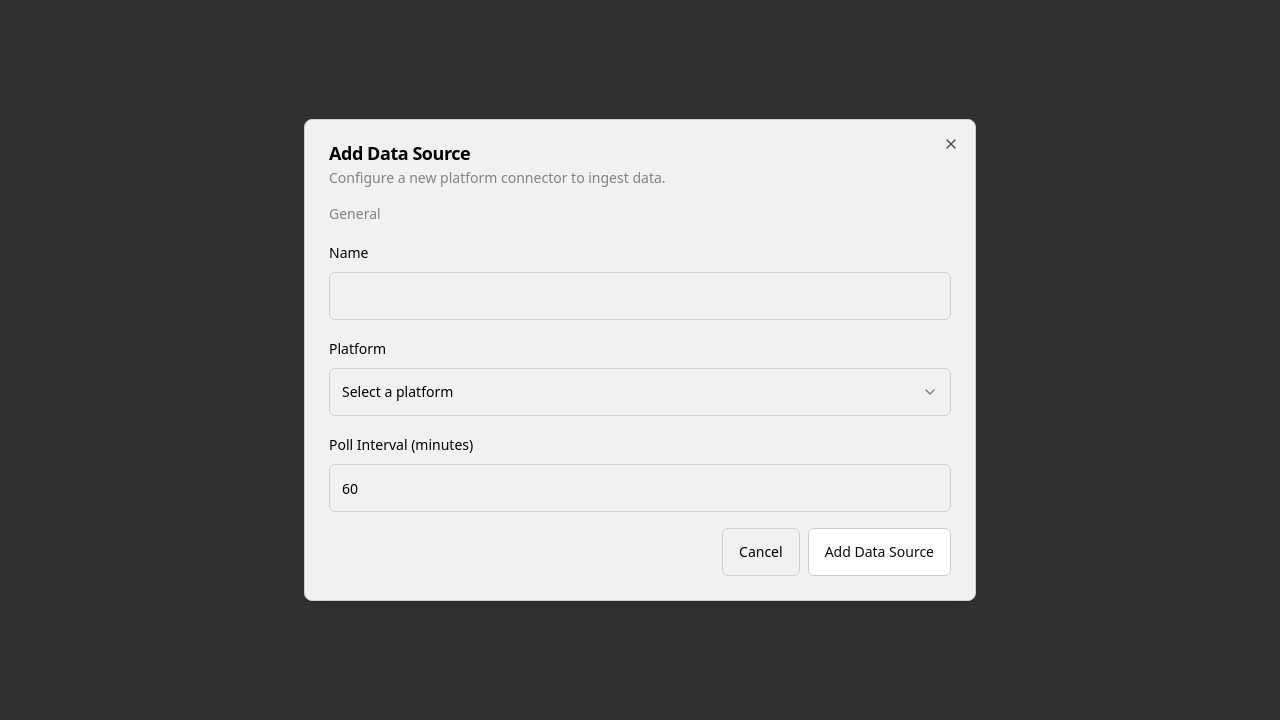
Test case: DataSourceDialog — File Upload platform › shows file input area when file_upload platform is selected
Step 1. Click the dropdown → click(398, 392), box top-left (329, 368), bottom-right (951, 416)
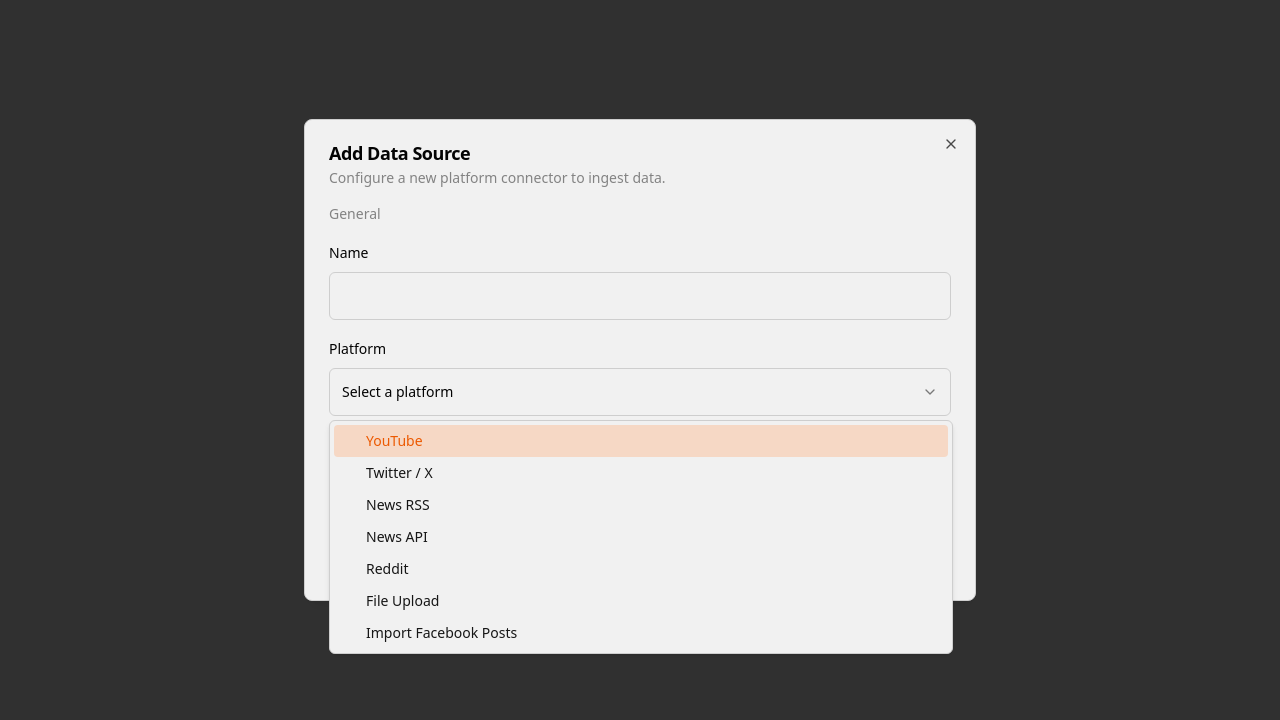
Step 2. Click the option "File Upload" → click(403, 600), box top-left (366, 591), bottom-right (439, 610)
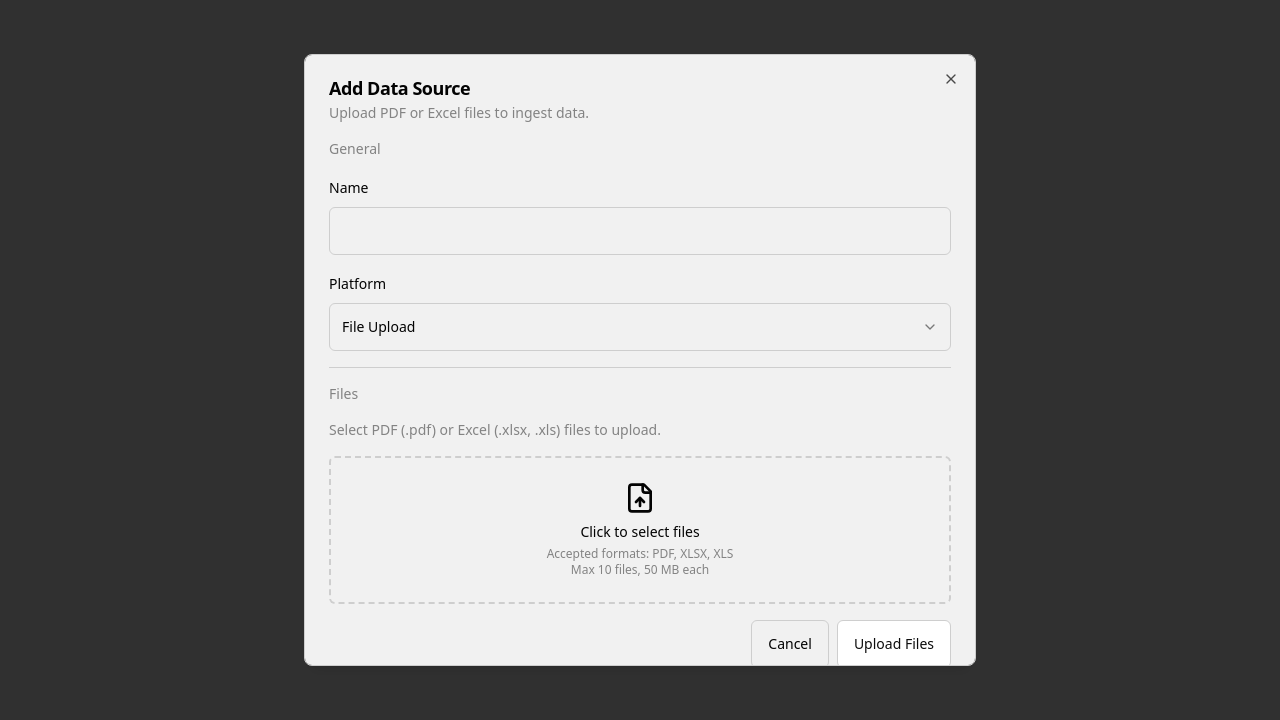
Now the heading "Files" is shown, box top-left (329, 384), bottom-right (358, 403)
